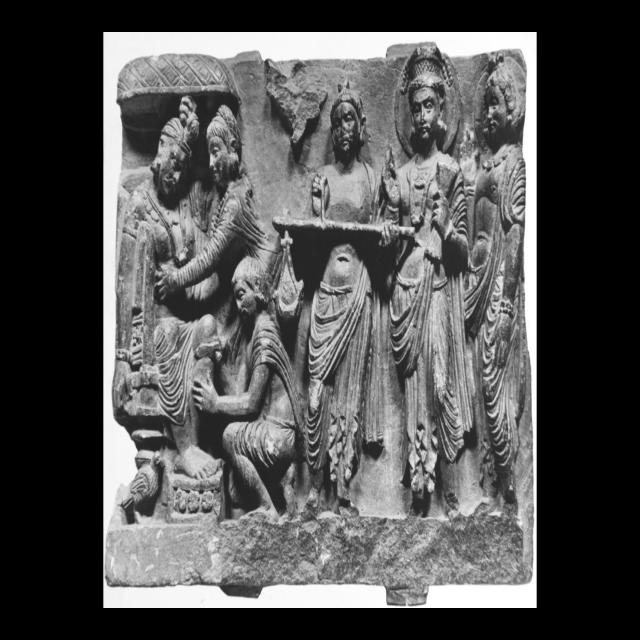buddha-standing: (382, 42, 473, 507)
